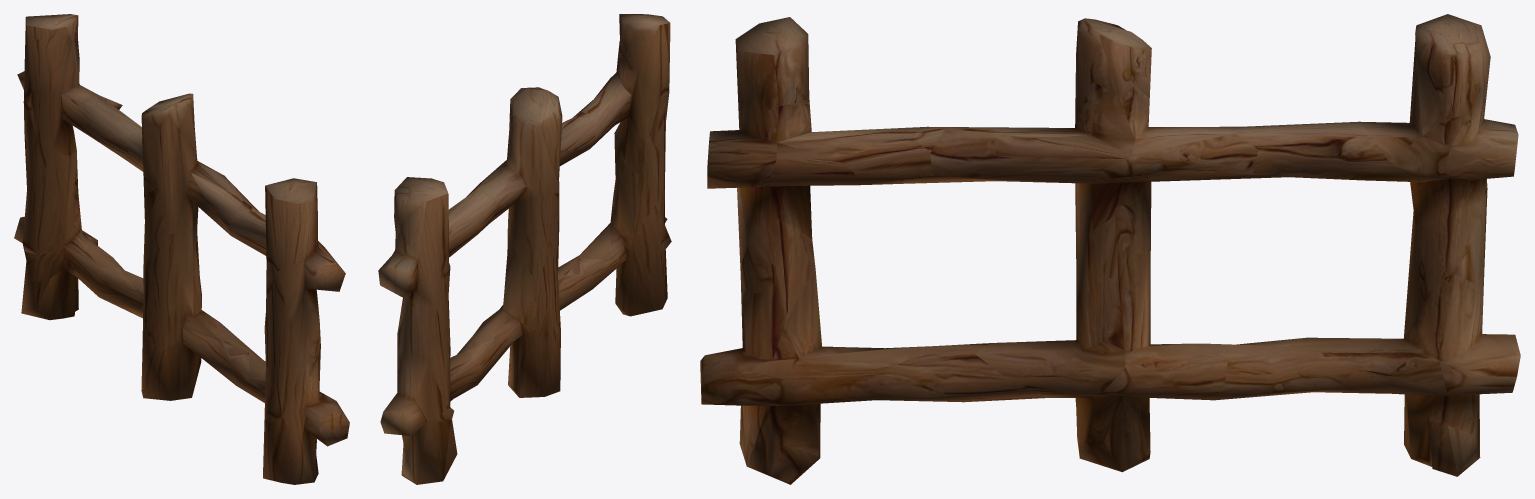
File: fence.glb
The picture shows the model from 3 angles, left to right: view 1: azimuth 30°, elevation 25°; view 2: azimuth 150°, elevation 25°; view 3: azimuth 270°, elevation 25°; orthographic projection. The views are drawn at different scales.
Visible parts, largest first — view 1: tripo_node_f1418837-d08b-4a7f-8dff-9186fae5ceb3; view 2: tripo_node_f1418837-d08b-4a7f-8dff-9186fae5ceb3; view 3: tripo_node_f1418837-d08b-4a7f-8dff-9186fae5ceb3.
Boxes of the visible parts, x1,y1,x2,y2 form: tripo_node_f1418837-d08b-4a7f-8dff-9186fae5ceb3: [14, 14, 349, 484]; tripo_node_f1418837-d08b-4a7f-8dff-9186fae5ceb3: [378, 14, 671, 484]; tripo_node_f1418837-d08b-4a7f-8dff-9186fae5ceb3: [700, 14, 1520, 484].
Bounding box in the file's own units: 0.1462 × 0.6034 × 0.9982.
Materials: 1 (1 with a texture image).
